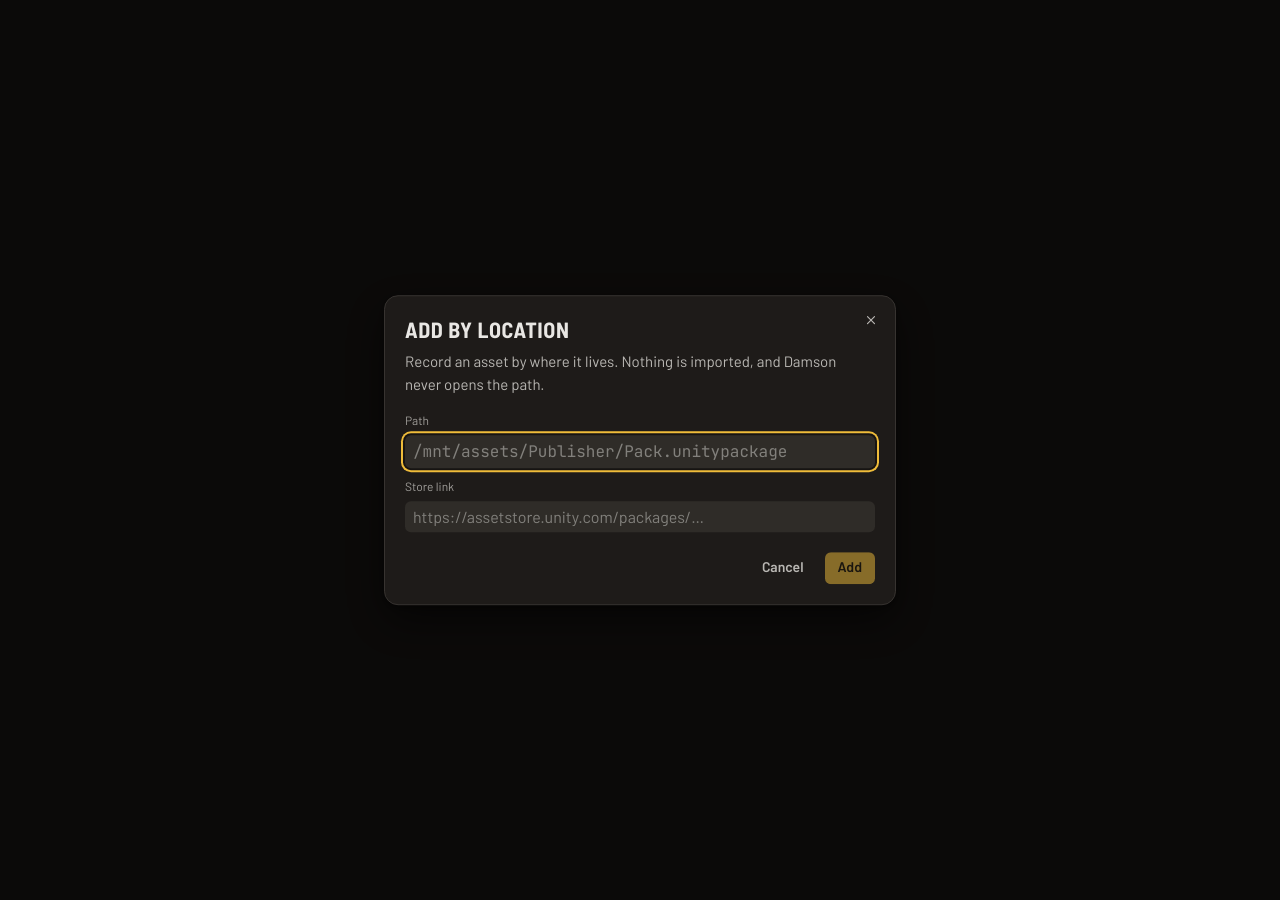
Test: AddByLocationDialog › adds a store link without waiting for the store lookup
Type "/mnt/nfs/Kingdom" into the field labelled "Path" at (640, 452), box [413, 441, 867, 462]
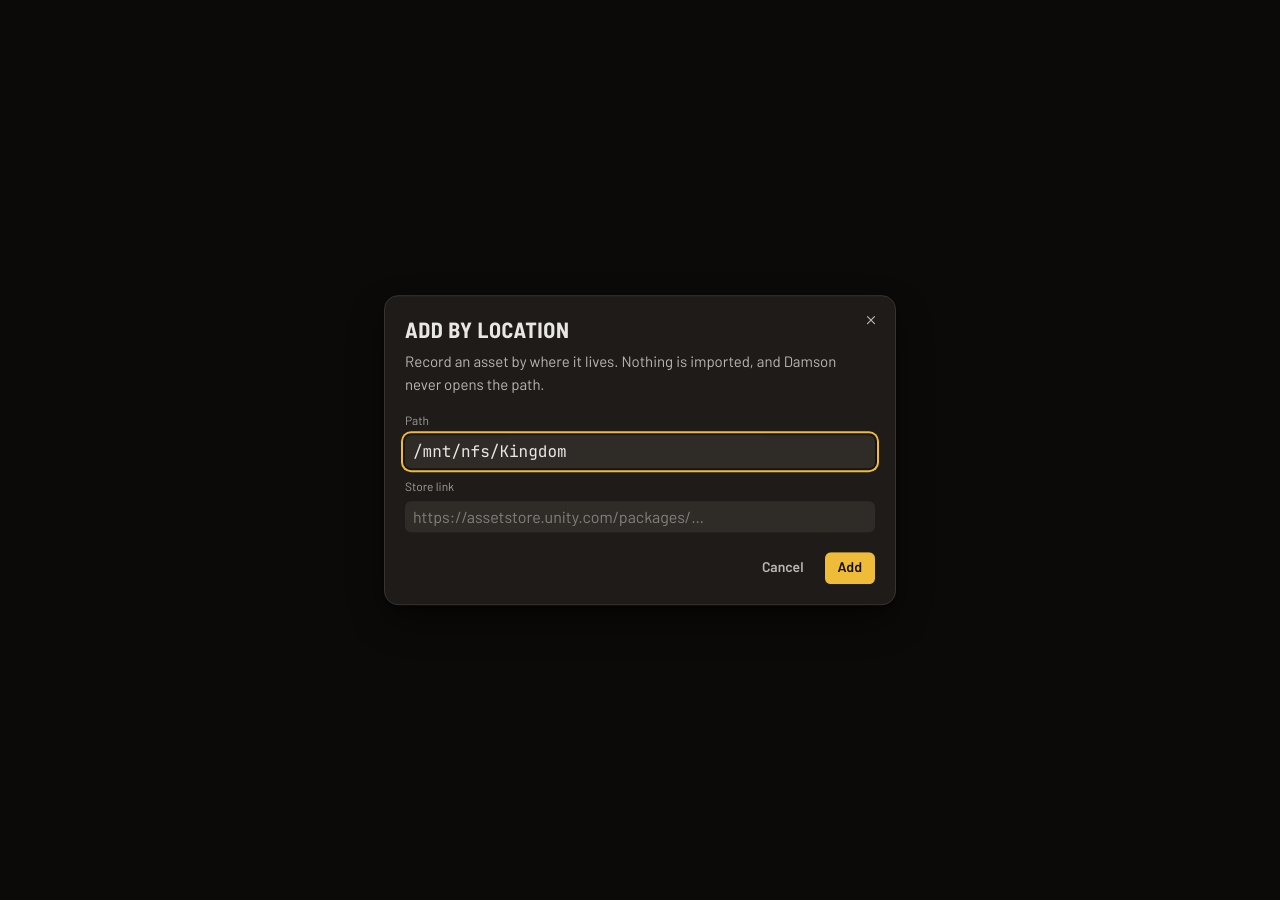
Type "https://assetstore.unity.com/packages/polygon-fantasy-kingdom" into the field labelled "Store link" at (640, 516), box [413, 507, 867, 526]
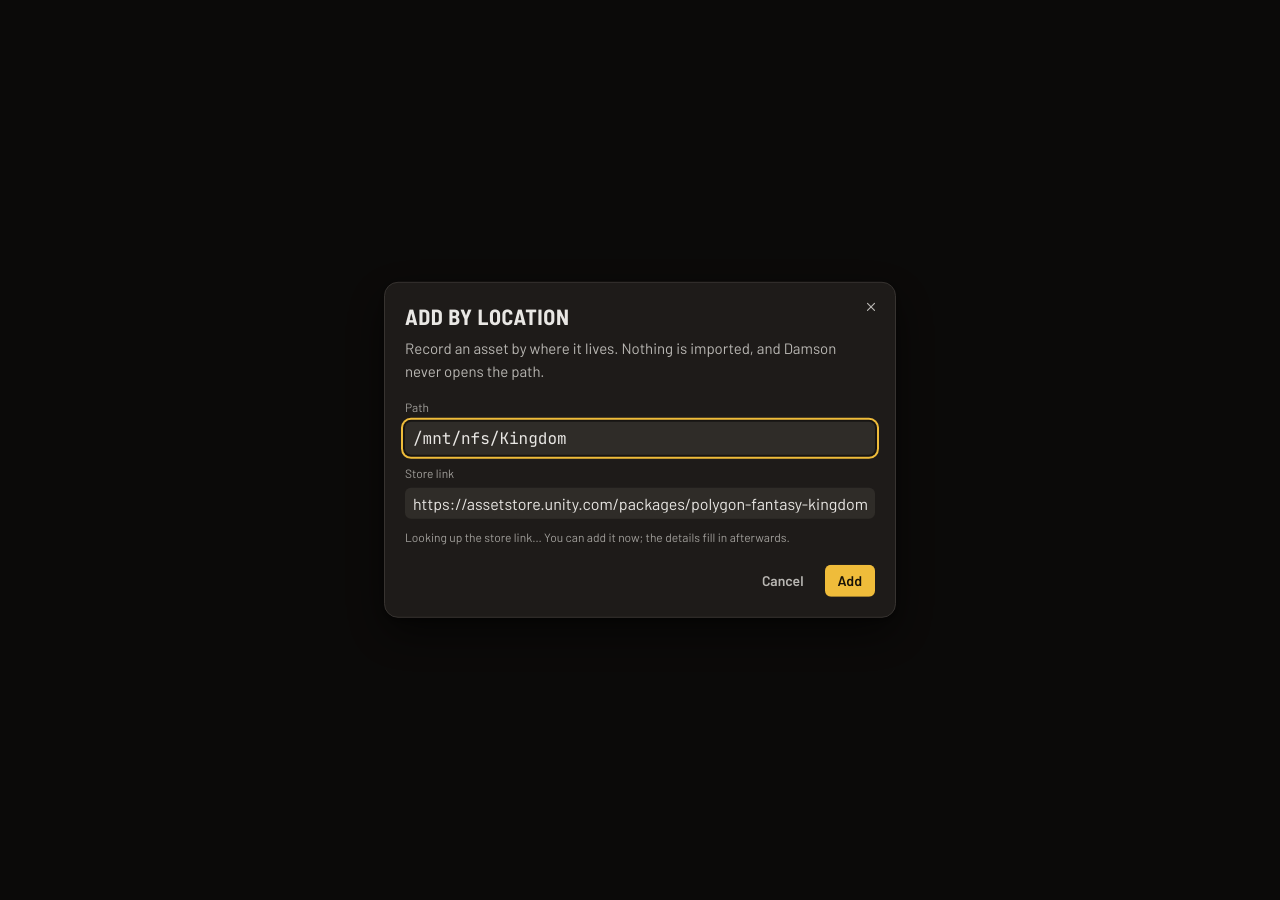
Result: the text "You can add it now" is shown at [405, 529, 790, 543]
Click the button "Add" at (850, 581), box [824, 565, 875, 597]
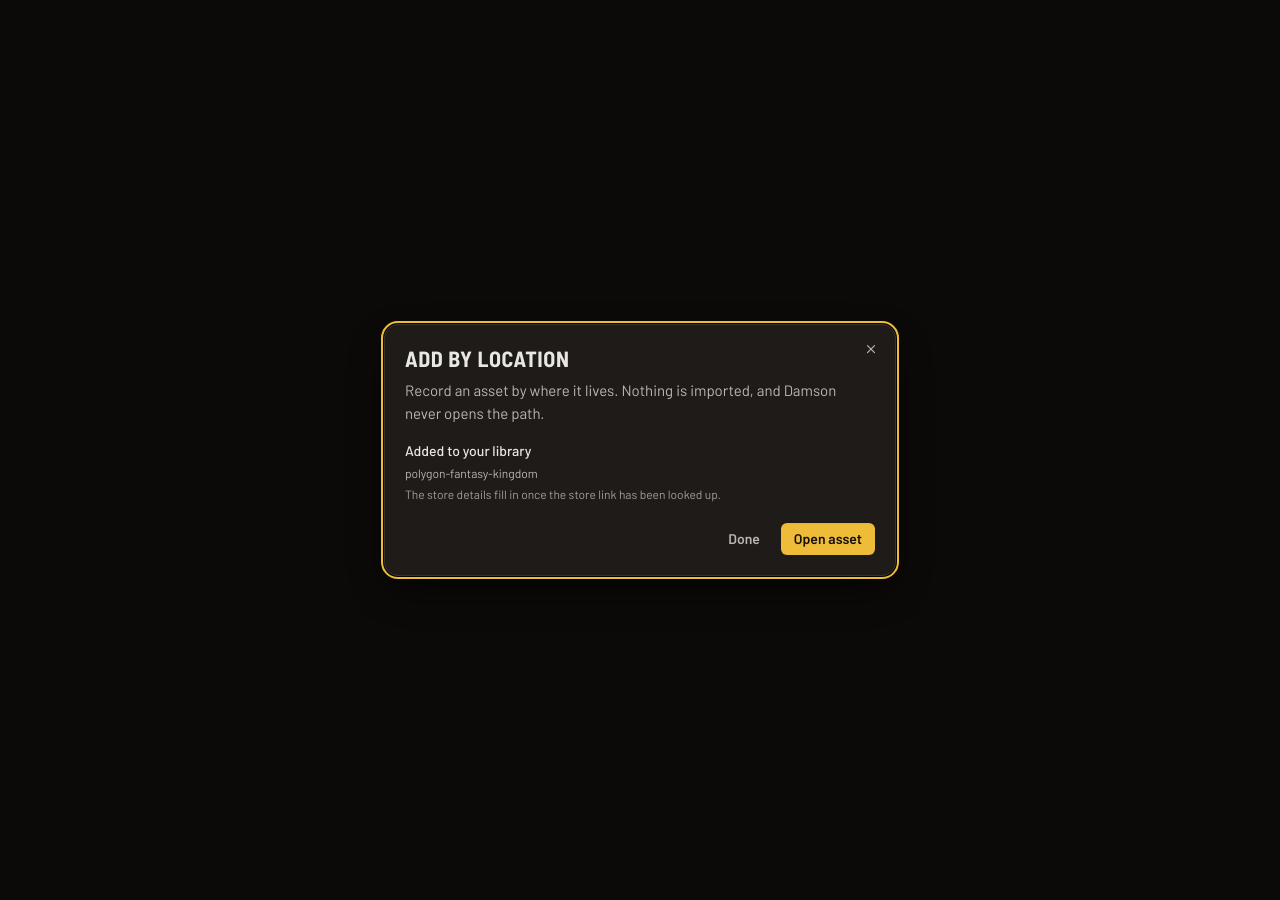
Result: the text "Added to your library" is shown at [405, 442, 532, 459]
Result: the text "The store details fill in" is shown at [405, 487, 721, 501]
